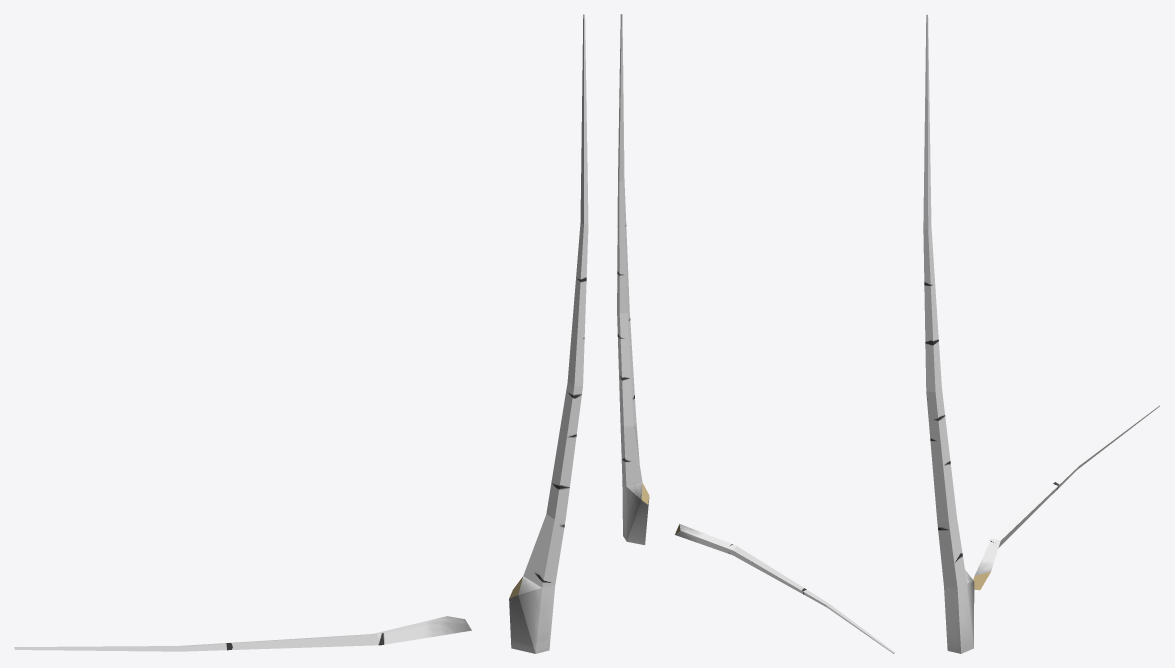
File: Birch_Tree_NoLeaves_crk_m_05.fbx
3 views of the same model, side by side, from view 1: azimuth 30°, elevation 25°; view 2: azimuth 150°, elevation 25°; view 3: azimuth 270°, elevation 25° (orthographic). The views are drawn at different scales.
Parts seen in each view (by area): view 1: Birch_Tree_NoLeaves_crk_m_05; view 2: Birch_Tree_NoLeaves_crk_m_05; view 3: Birch_Tree_NoLeaves_crk_m_05.
Boxes of the visible parts, x1,y1,x2,y2 form: Birch_Tree_NoLeaves_crk_m_05: [14, 14, 588, 653]; Birch_Tree_NoLeaves_crk_m_05: [617, 14, 894, 653]; Birch_Tree_NoLeaves_crk_m_05: [923, 14, 1160, 653].
Size of the model in its own units: 506 by 670 by 222.
